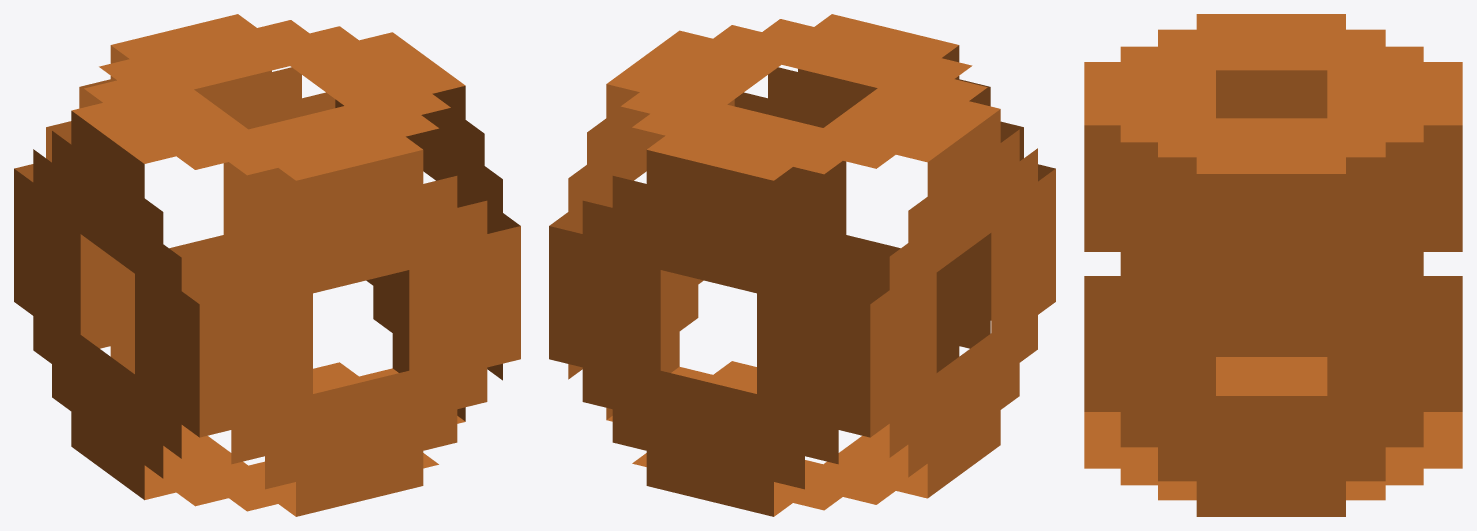
Rendered from command_block(o).obj.
3 renders of one model, left to right at view 1: azimuth 30°, elevation 25°; view 2: azimuth 150°, elevation 25°; view 3: azimuth 270°, elevation 25°, orthographic. The views are drawn at different scales.
Parts seen in each view (by area): view 1: Cube; view 2: Cube; view 3: Cube.
Boxes of the visible parts, x1,y1,x2,y2 form: Cube: (14, 14, 520, 516); Cube: (549, 14, 1055, 516); Cube: (1084, 14, 1462, 516).
Size of the model in its own units: 1 by 1 by 1.
